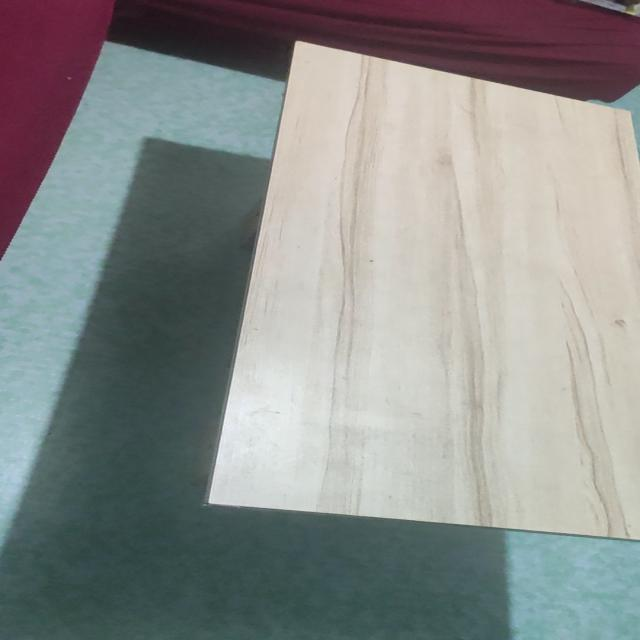table: (196, 38, 640, 551)
